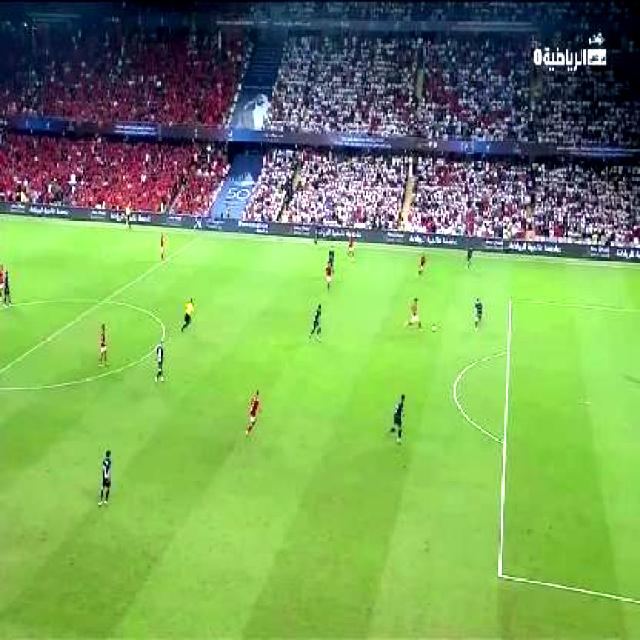bigarea_bottom_inner: (486, 560, 517, 591)
bigarea_top_inner: (506, 294, 514, 304)
bottom_arc_area_intersection: (500, 437, 508, 448)
halfcircle_top: (99, 296, 108, 306)
midline_top_intersection: (194, 230, 209, 242)
top_arc_area_intersection: (503, 344, 511, 356)
